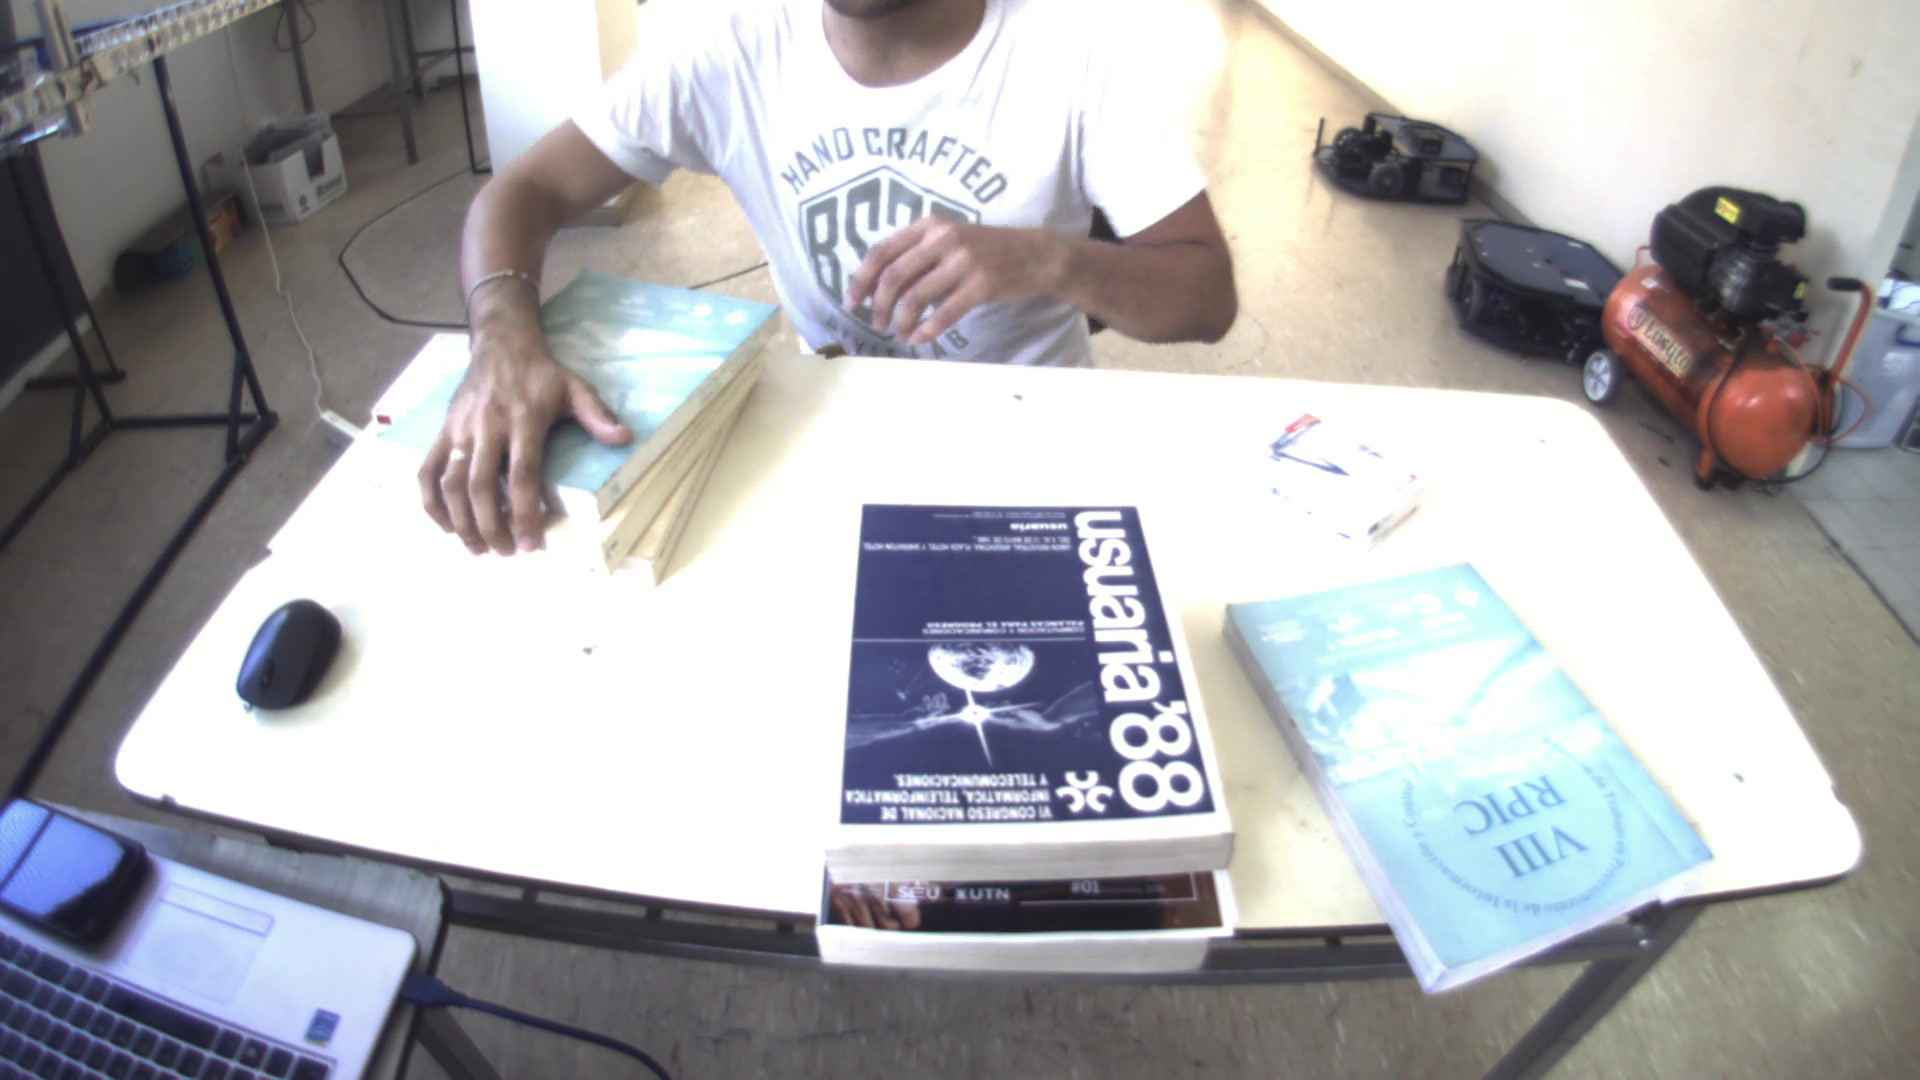hand: (398, 315, 634, 560), (843, 196, 1075, 344)
